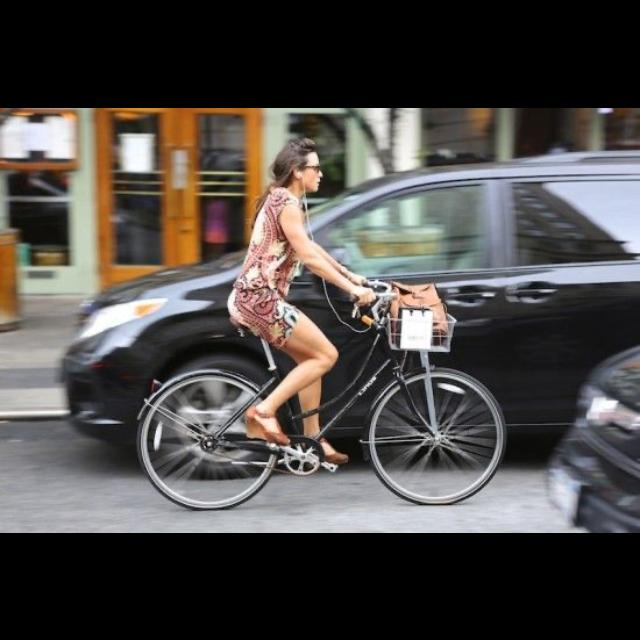Without Helmet: (271, 132, 323, 194)
